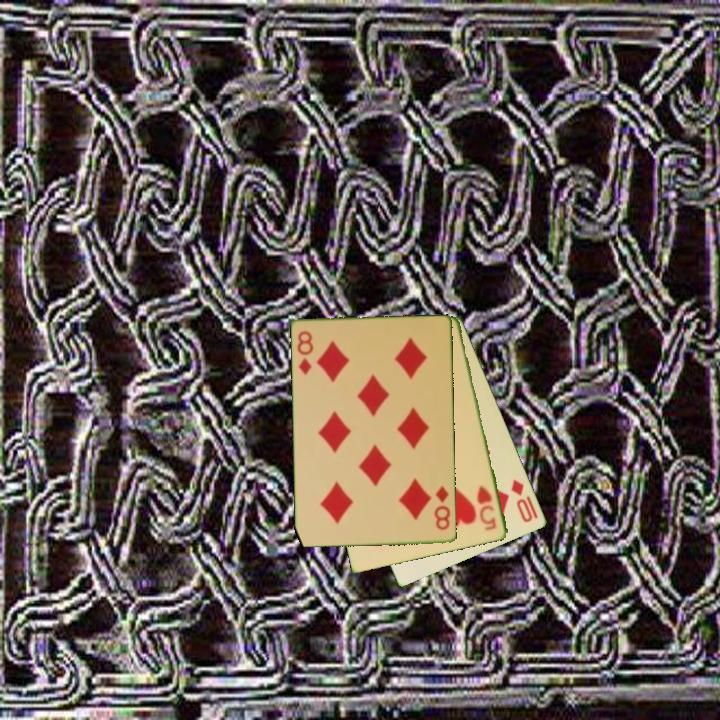10d: (508, 476, 541, 525)
5h: (474, 482, 500, 534)
8d: (294, 328, 317, 378), (431, 483, 453, 533)
